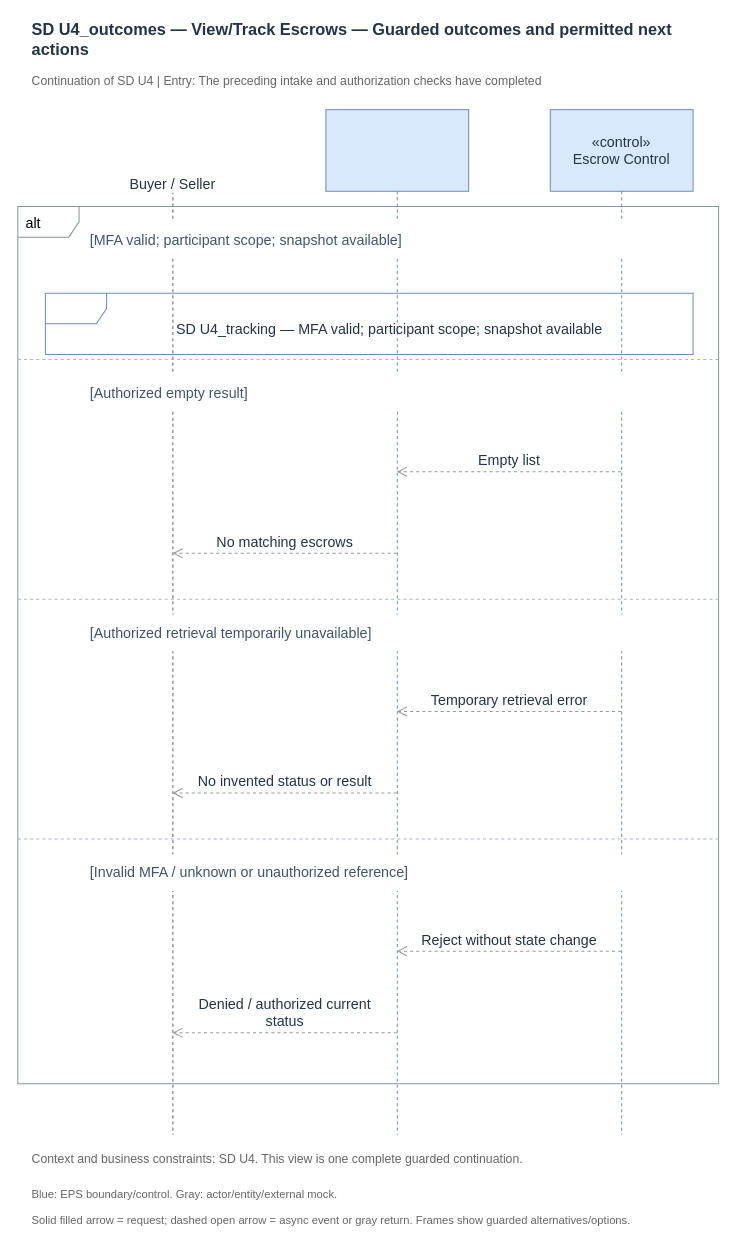
Some shapes in this 742 by 1253 pixel diagram are drawn without their labels. The shapes that lost their labels are listed below. From the top down, each one's box as (x1, y1, x2, y2) in pixels, then its label:
(44, 292, 693, 354): ref
(325, 109, 469, 1135): «boundary» Escrow UI
